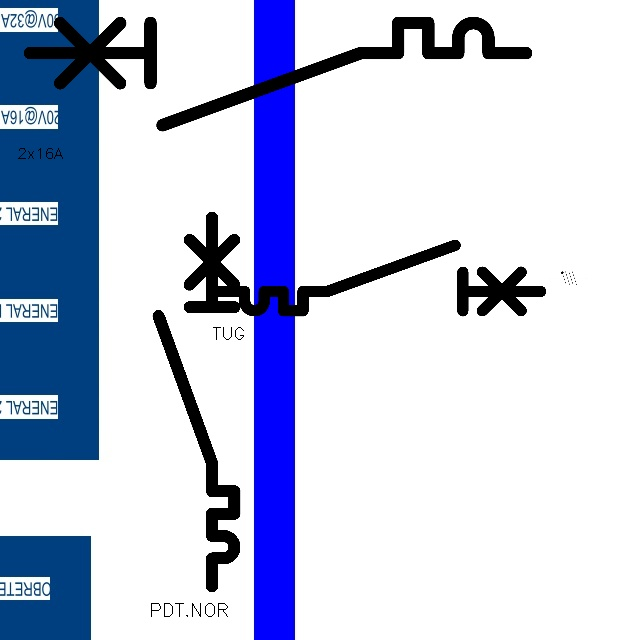interruptor_termomagnetico: (17, 10, 539, 138), (149, 208, 244, 596), (212, 237, 549, 319)
